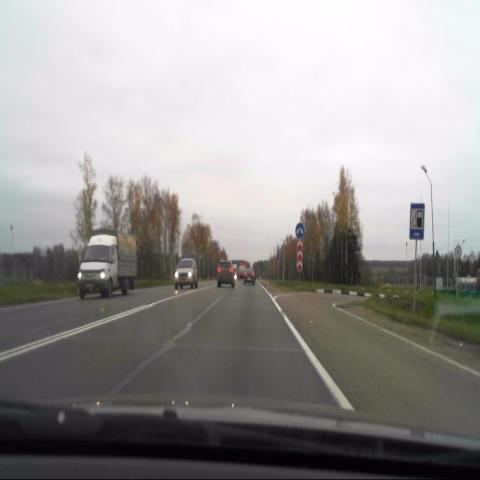4_2_3: (295, 221, 305, 239)
7_3: (409, 203, 426, 240)
